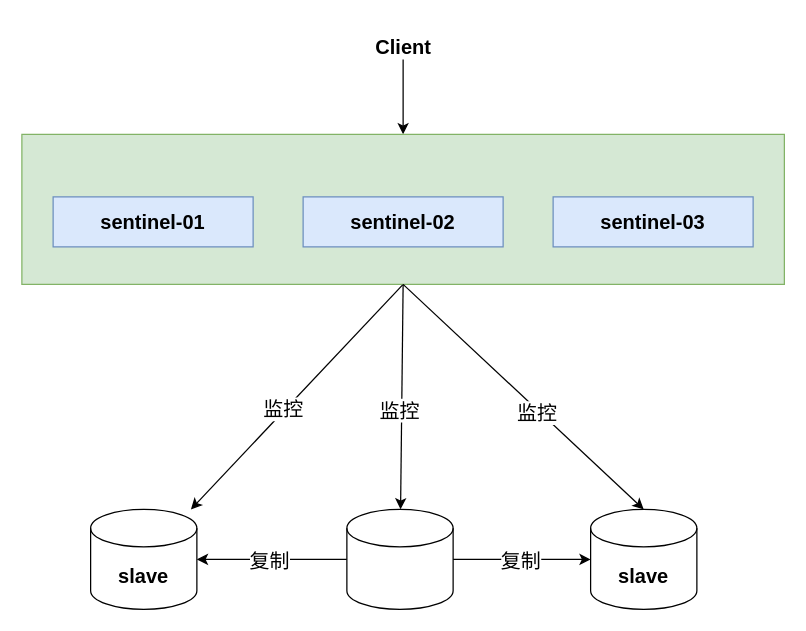
Image size: 806x631. Some labels were removed from this diagram. The box of each missing label's shape, as (x1, y1, x2, y2) in pixels:
master: (346, 508, 453, 609)
sentinel集群: (21, 133, 784, 284)
